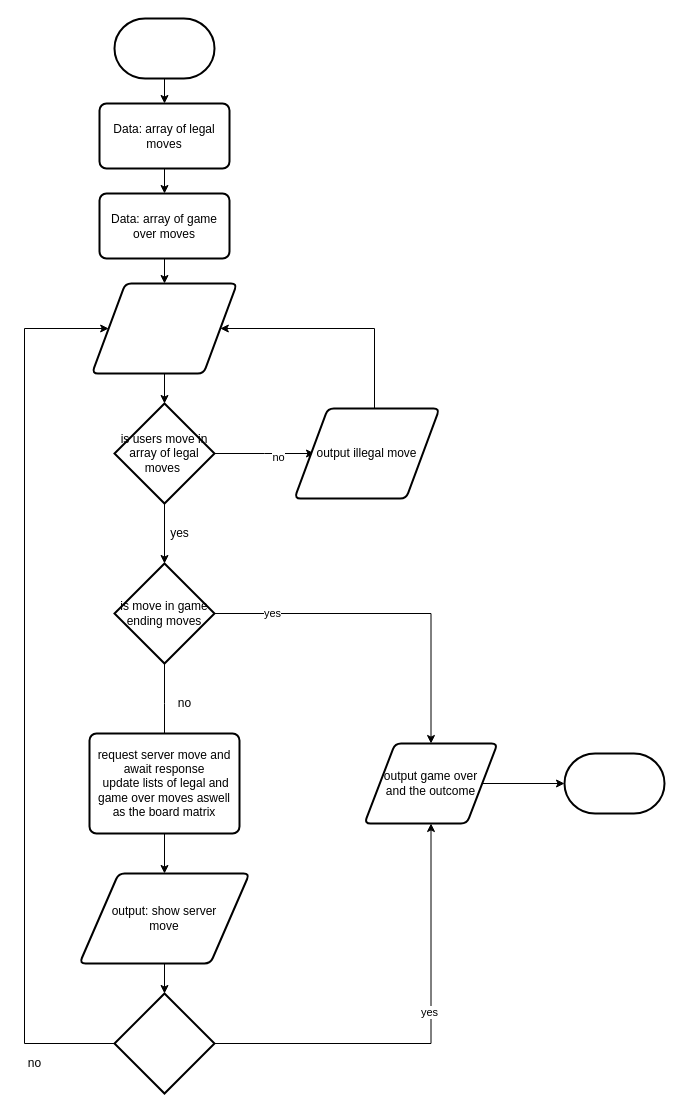
Some shapes in this 683 by 1111 pixel diagram are drawn without their labels. The shapes that lost their labels are listed below. From the top down, each one's centre as x and y in pixels, then its label:
At (164,48): "Start".
At (164,328): "input users move".
At (614,783): "end".
At (164,1043): "is game is over".
